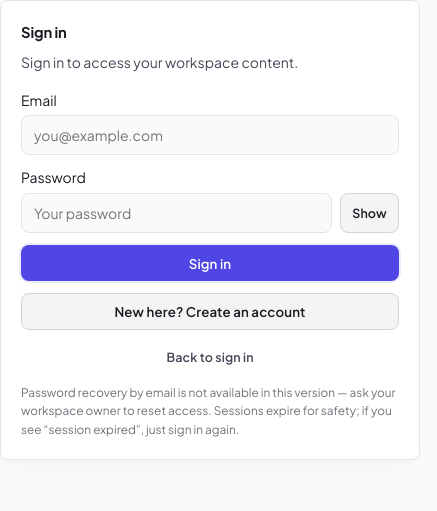
LoginForm auth bootstrap › shows field-level validation for missing email only
The width and height of the screenshot is (437, 511).
In the password field with placeholder "Your password": (177, 213) [21, 193, 332, 233], type "secret123"
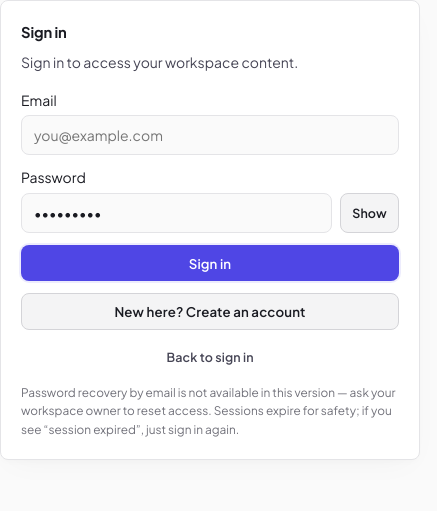
Click the button "Sign in": (210, 263) [21, 245, 399, 282]
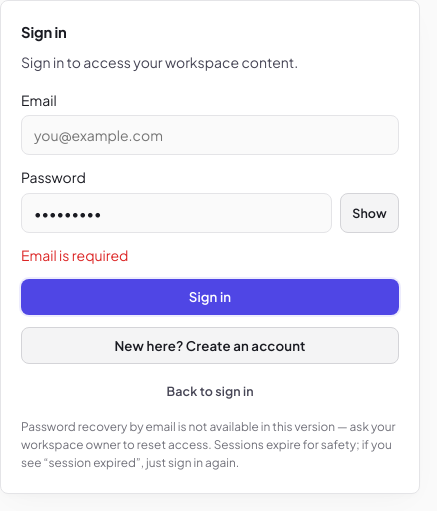
Check: the text "Email is required" is shown, box [21, 246, 128, 264]
